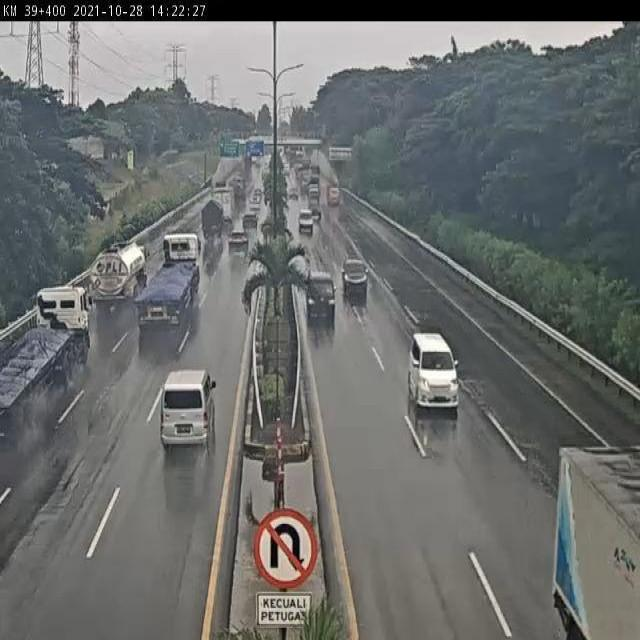big truck: (18, 274, 88, 382), (155, 236, 195, 327), (211, 185, 234, 223)
car: (155, 356, 220, 467), (407, 329, 463, 420), (305, 264, 337, 320), (335, 245, 367, 291), (294, 204, 315, 237), (224, 234, 248, 262), (239, 215, 264, 237), (247, 195, 262, 216), (251, 186, 264, 206)
small truck: (547, 440, 640, 640), (104, 231, 153, 300), (198, 204, 223, 248)
